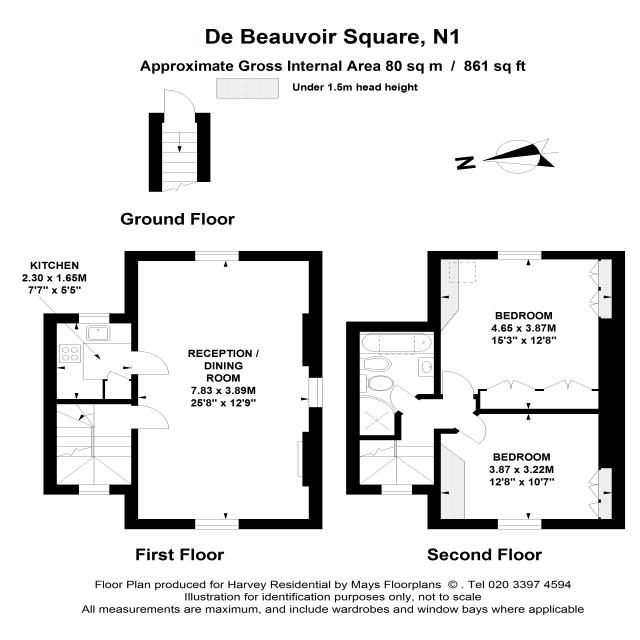DOOR: (454, 411, 488, 446), (441, 370, 475, 400), (131, 404, 170, 430), (390, 383, 421, 415), (131, 350, 170, 375)
ROOM: (124, 250, 323, 529), (427, 251, 626, 414), (427, 409, 626, 530)
WINDOW: (194, 250, 240, 262), (194, 518, 240, 530), (497, 518, 542, 530), (308, 377, 324, 409), (76, 312, 112, 325), (497, 250, 543, 260), (380, 484, 413, 495), (78, 484, 111, 495)
